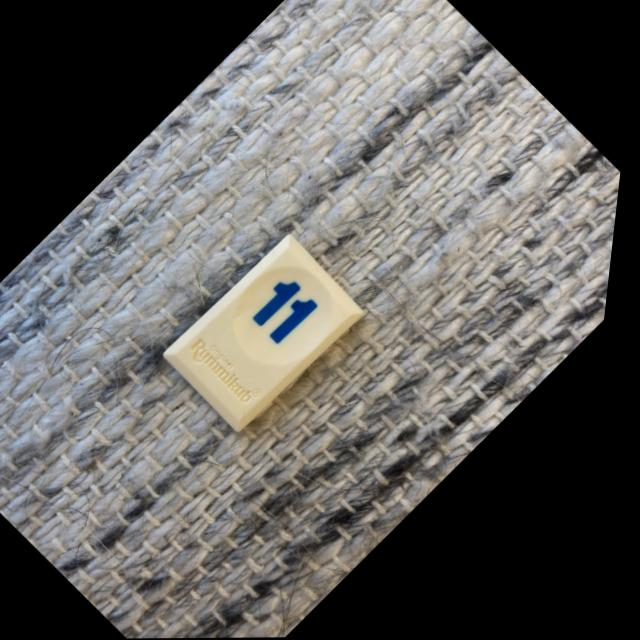blue_11: (171, 236, 370, 431)
